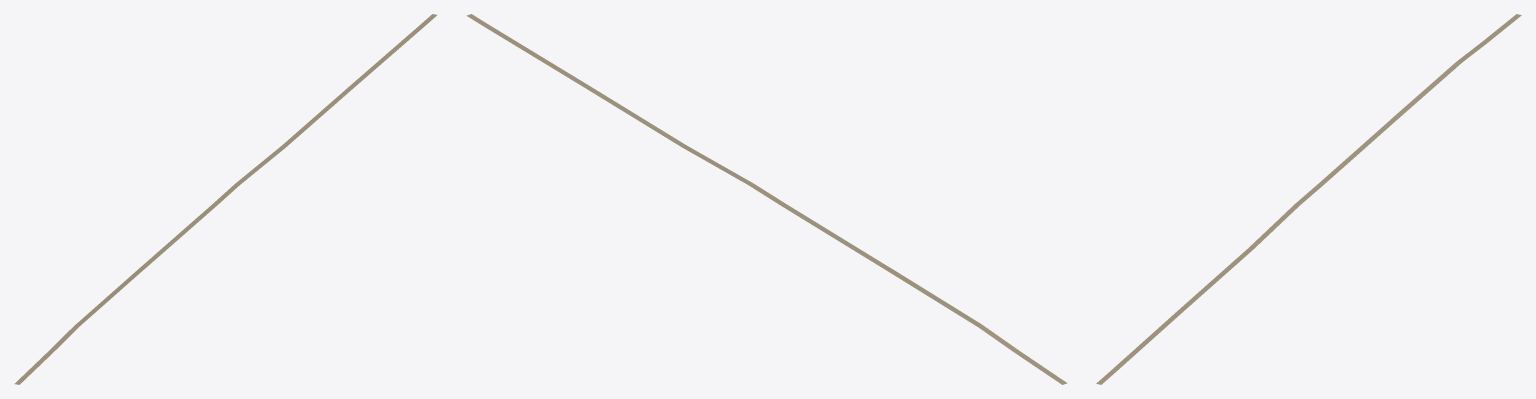
File: farm_24_15_track.glb
3 renders of one model, left to right at view 1: azimuth 90°, elevation 25°; view 2: azimuth 150°, elevation 25°; view 3: azimuth 270°, elevation 25°, orthographic. The views are drawn at different scales.
Parts seen in each view (by area): view 1: geometry_0; view 2: geometry_0; view 3: geometry_0.
Boxes of the visible parts, x1=… form: geometry_0: x1=14, y1=14, x2=436, y2=384; geometry_0: x1=466, y1=14, x2=1067, y2=384; geometry_0: x1=1096, y1=14, x2=1521, y2=384.
Size of the model in its own units: 486 by 3.52 by 235.
